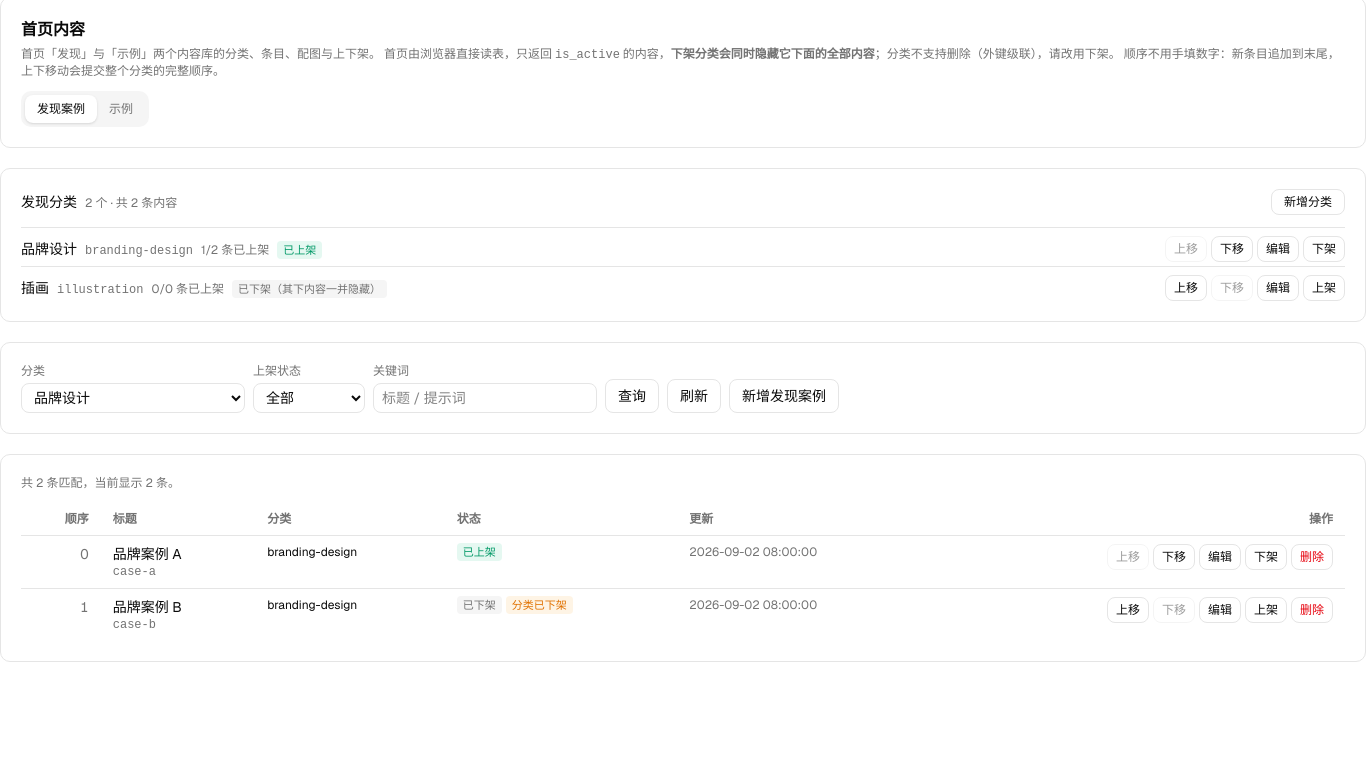
Test case: admin home content section › submits the whole category order when moving an entry
Expected: the table with test id "admin-home-table" is shown, [21, 503, 1345, 641]
Click the button "下移" in the row of "品牌案例 A". click: click(1174, 557)
box: [1153, 544, 1195, 570]
(page scrolled)
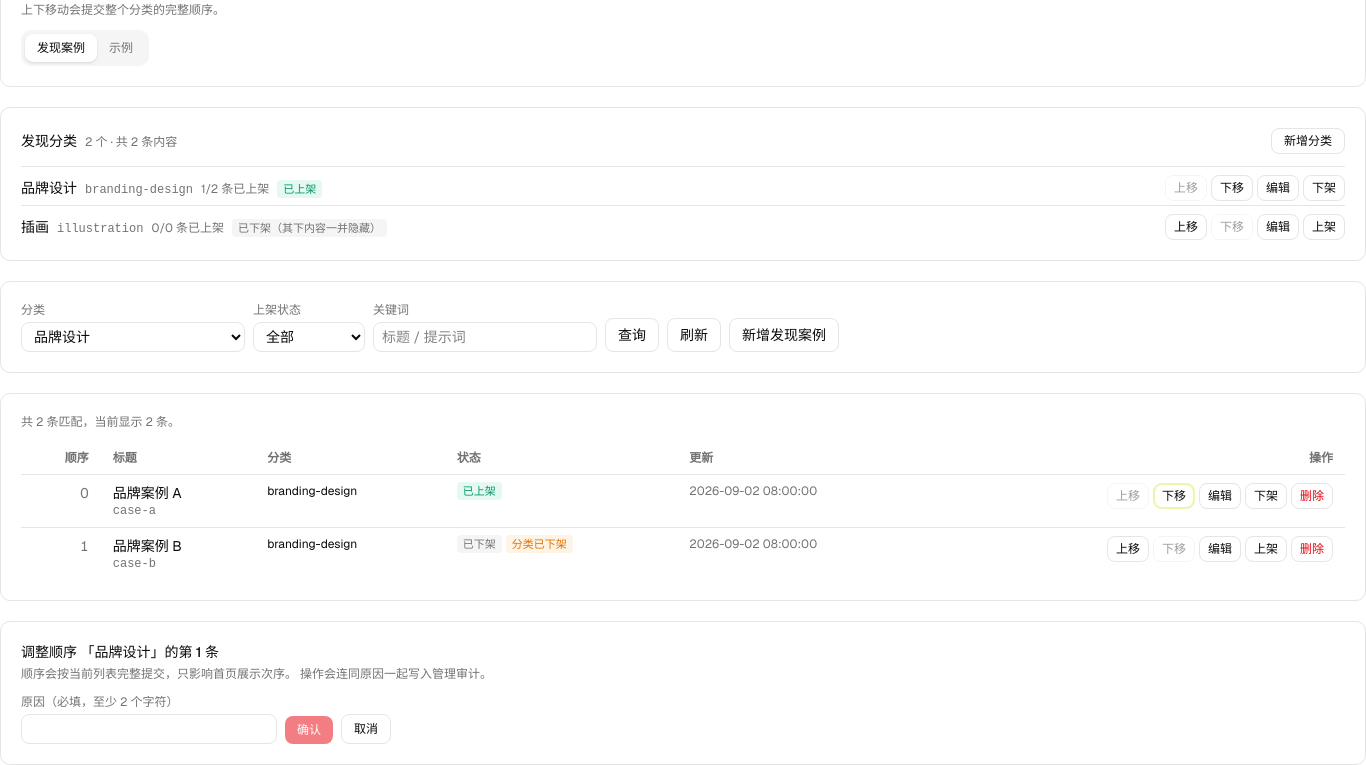
Expected: the element with test id "admin-home-confirm" shows "调整顺序", [21, 643, 77, 661]
Type "把新品排到前面" into the field named "操作原因". click: (149, 729)
box: [21, 714, 277, 744]
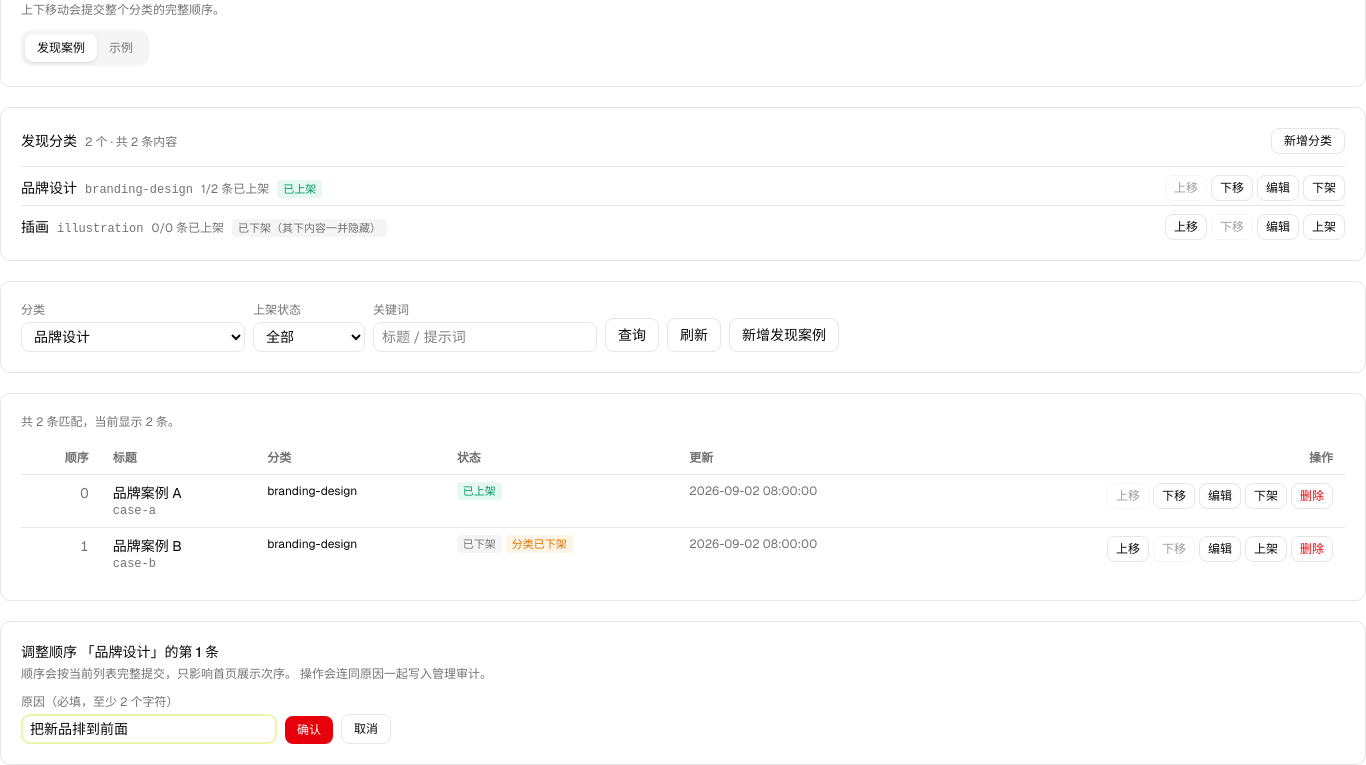
Click the button "确认". click: click(309, 730)
box: [285, 716, 333, 744]
(page scrolled)
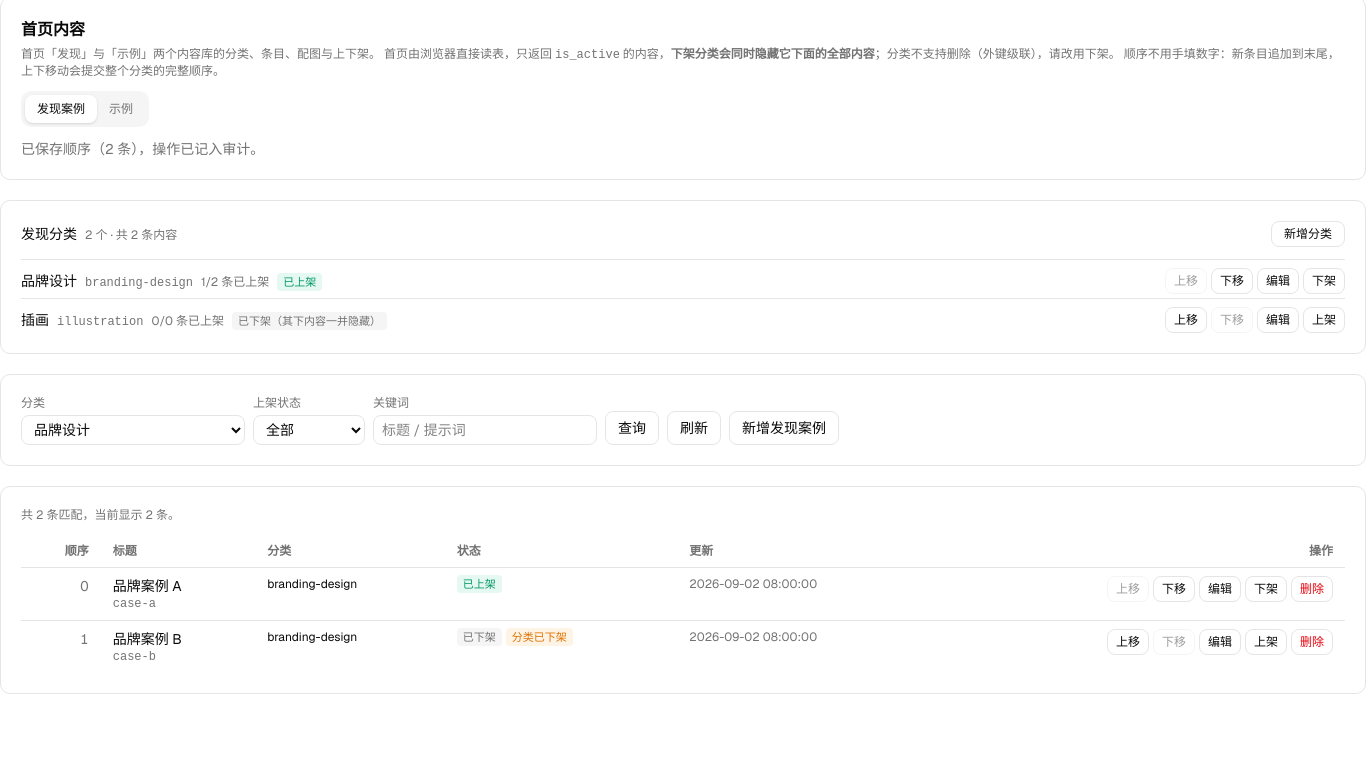
Expected: the text with test id "admin-home-feedback" shows "已保存顺序（2 条）", [21, 140, 264, 158]
